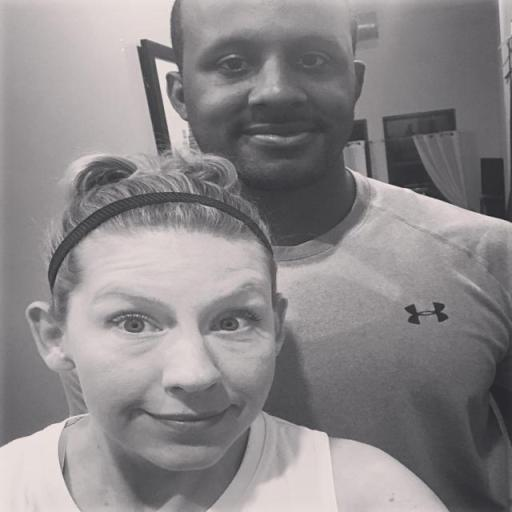Under Armour: (401, 298, 451, 326)
